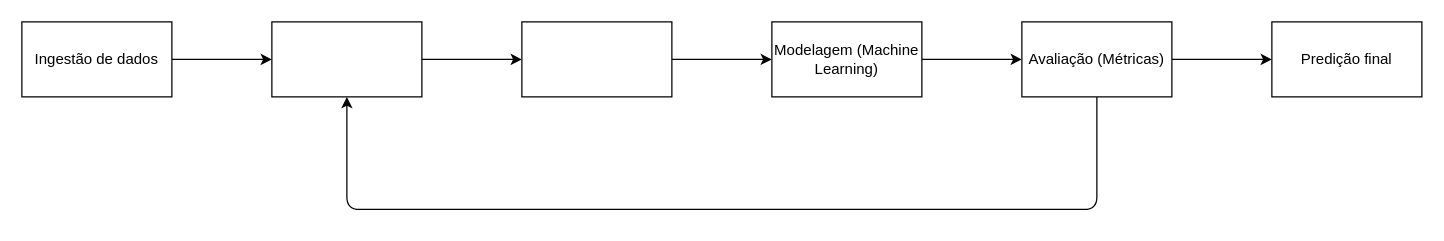
Image size: 1444x241. Some labels were removed from this diagram. Each missing label, with the centre of its shape:
Data Cleaning: the point at 346,59
Feature Engineering: the point at 596,59
